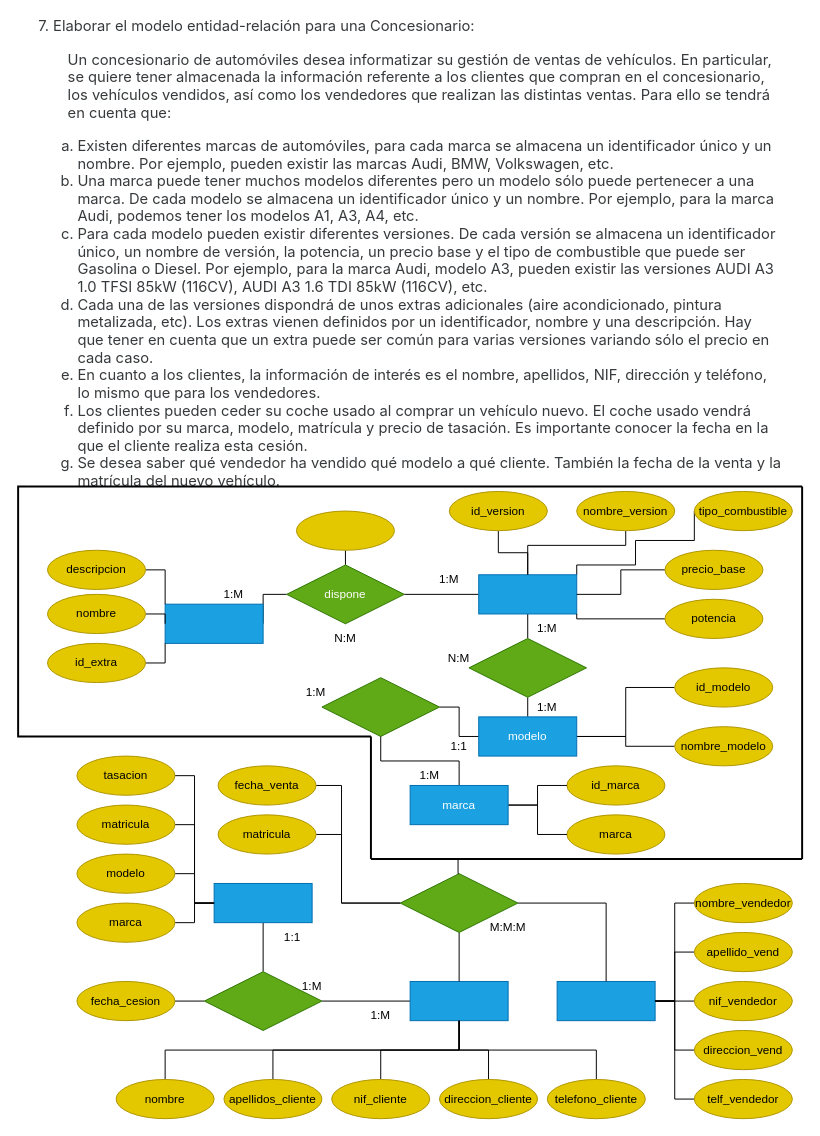
The diagram is 820 pixels wide and 1136 high, and some of its shapes have lost their labels. The shapes that lost their labels are listed below. From the top down, each one's box as (x1, y1, x2, y2) in pixels, then its label:
(295, 510, 394, 550): precio_extra_ver
(478, 574, 577, 614): versiones
(164, 603, 263, 643): extras
(468, 637, 587, 697): existen
(321, 677, 440, 736): tiene
(213, 882, 312, 923): usado
(399, 873, 518, 932): venta
(203, 971, 322, 1030): ceder
(409, 980, 508, 1021): clientes
(556, 980, 655, 1021): vendedor
